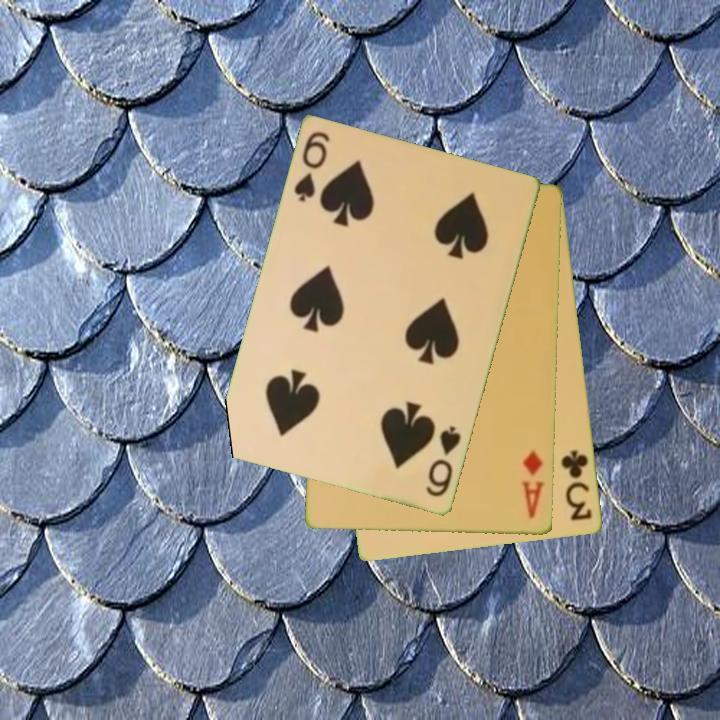3c: (558, 447, 595, 524)
6s: (422, 422, 464, 501), (291, 128, 333, 206)
Ad: (518, 447, 548, 522)
